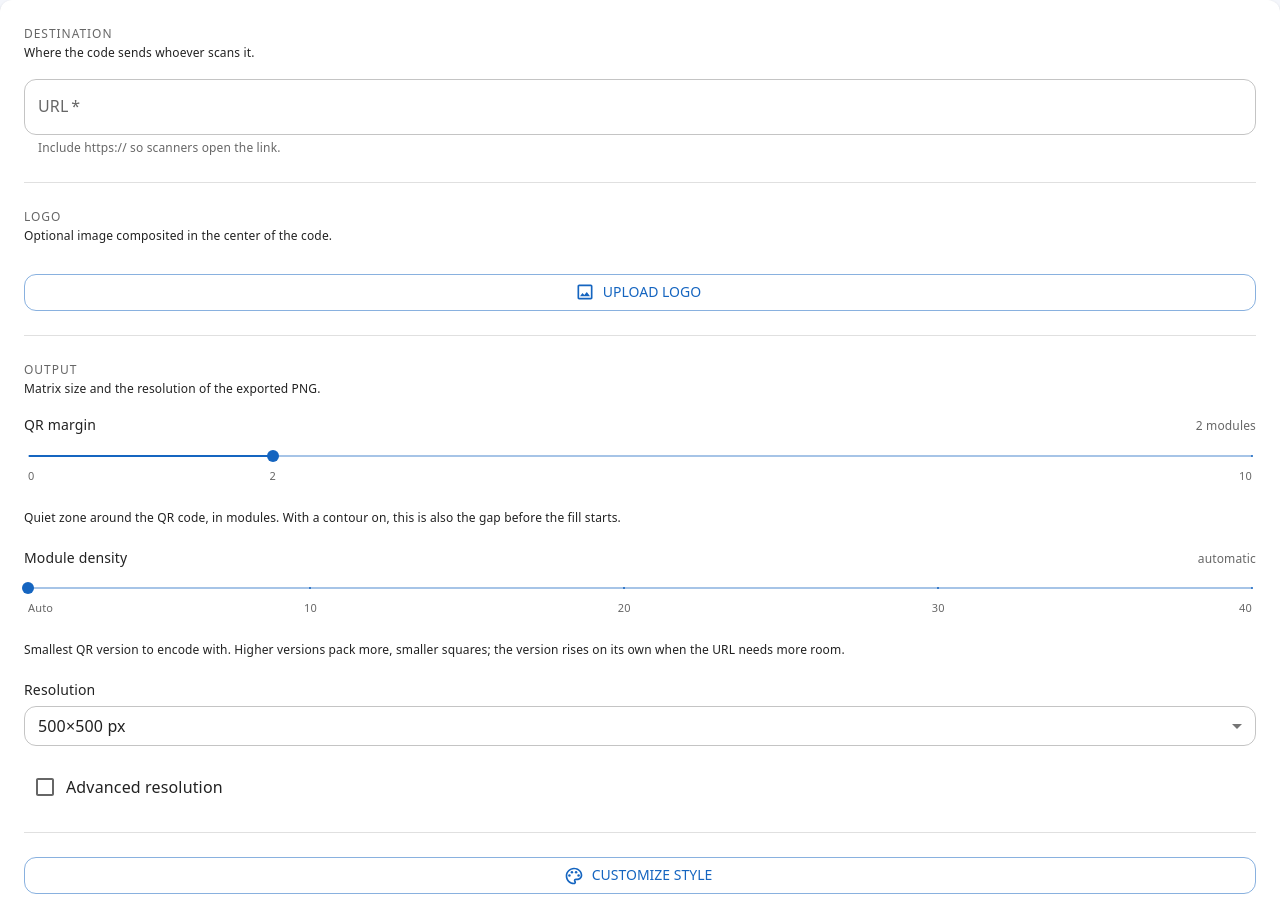
Test case: QrForm › reveals style controls when Customize style is clicked
The image size is (1280, 900).
Expected: the text "Quiet zone color" is not shown
Click the button "Customize style" at (640, 876), box [24,857,1256,894]
(page scrolled)
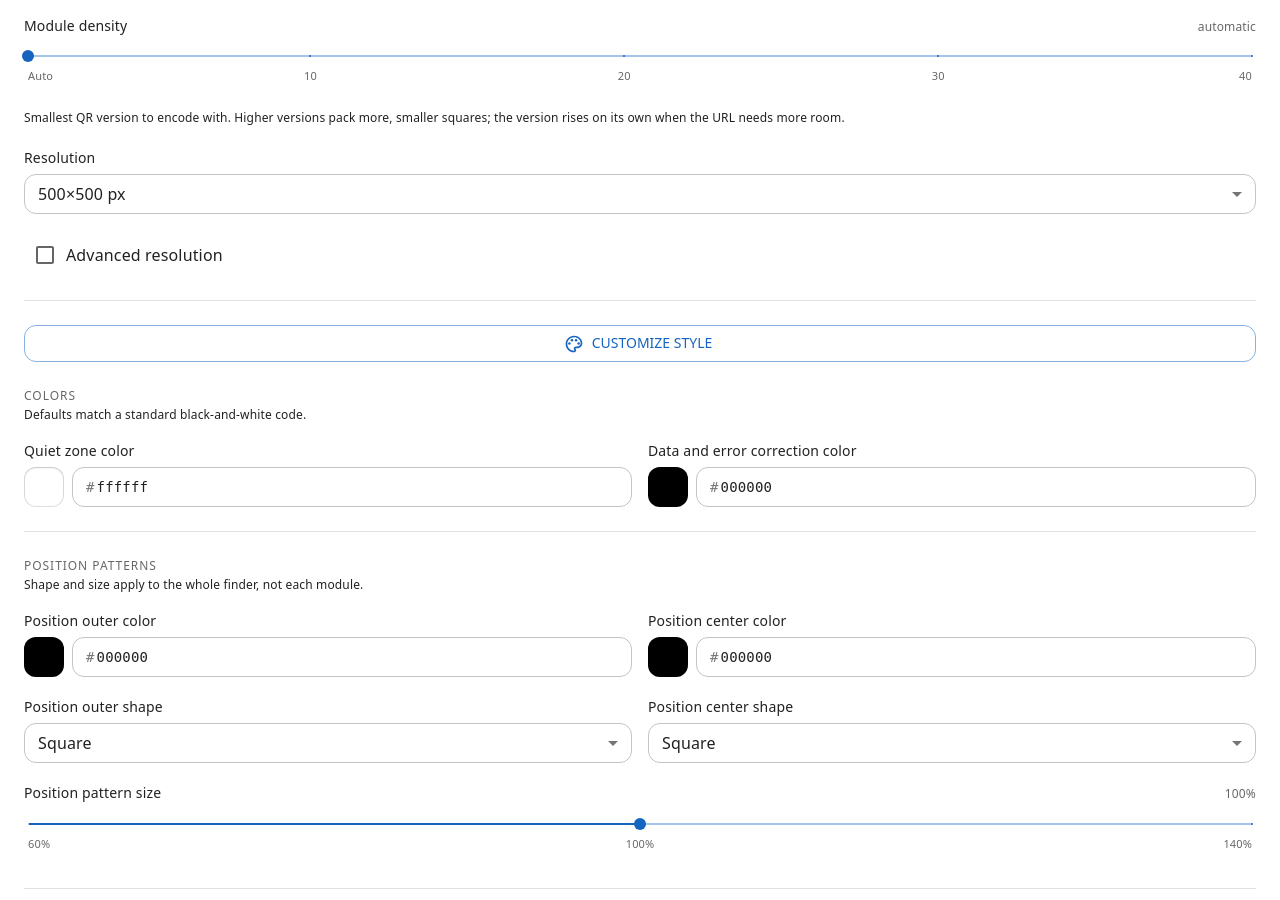
Now the text "Quiet zone color" is shown, box [24,441,134,461]
